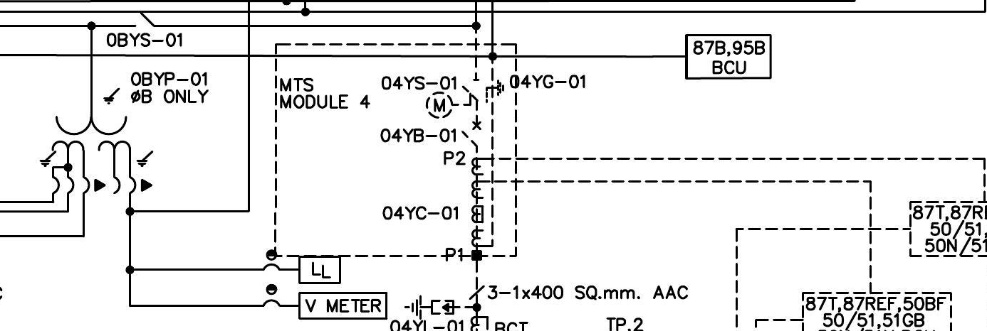115_ds: (133, 13, 155, 27)
115_vt_1p: (39, 87, 154, 194)
LL: (298, 255, 342, 285)
v_m_digital: (298, 291, 388, 320)
